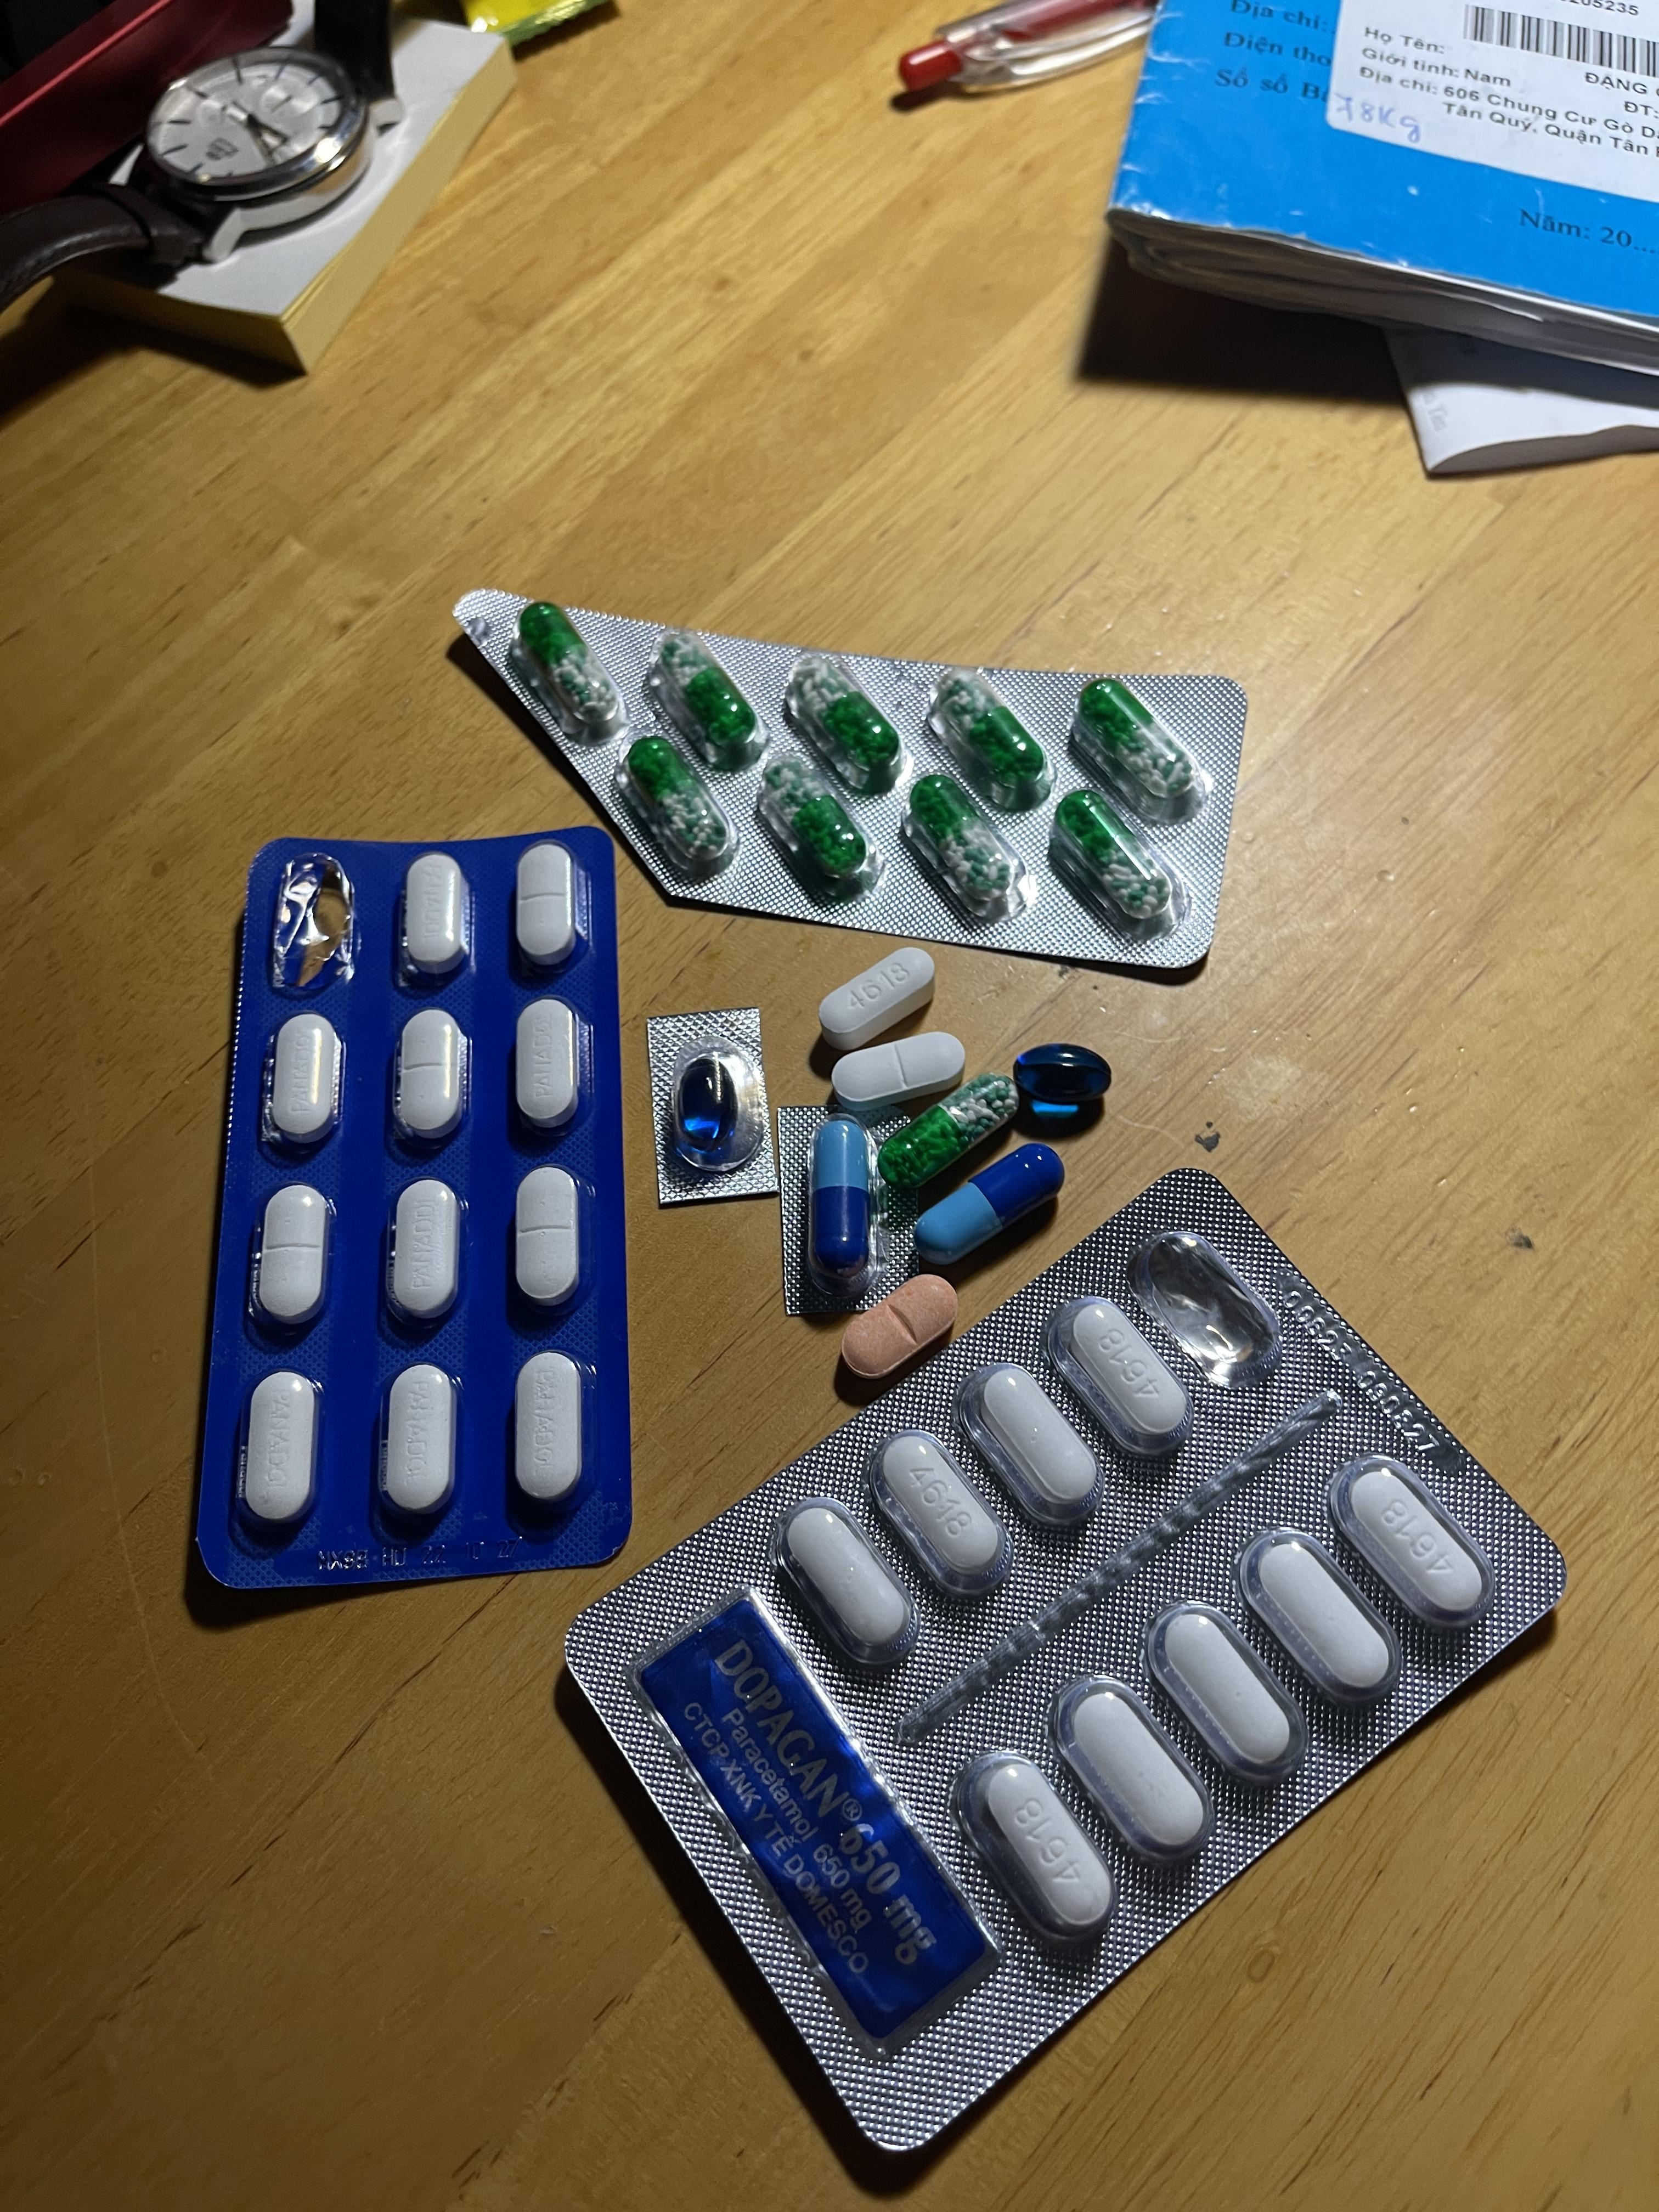Lincomyxin_500mg: (1012, 1043, 1115, 1111), (676, 1054, 741, 1151)
Loratadine_10mg: (842, 1275, 960, 1374)
Paracetamol_350mg: (242, 1372, 319, 1526), (831, 1033, 969, 1115), (383, 1364, 457, 1517), (256, 1183, 331, 1324), (514, 1353, 584, 1503), (389, 1179, 460, 1324), (514, 1167, 582, 1308), (396, 1010, 465, 1143), (272, 1012, 340, 1143), (516, 998, 582, 1130), (404, 853, 469, 970), (516, 845, 577, 958)
Paracetamol_500mg: (1049, 1672, 1213, 1871), (1141, 1599, 1302, 1789), (1234, 1527, 1396, 1714), (960, 1360, 1108, 1527), (1044, 1296, 1188, 1456), (779, 1500, 913, 1672), (871, 1430, 1011, 1595), (979, 1763, 1103, 1930), (1352, 1468, 1476, 1611), (817, 948, 943, 1043)
Paracetamol_650mg: (875, 1073, 1019, 1202), (934, 672, 1051, 805), (786, 655, 899, 782), (519, 603, 622, 733), (1060, 792, 1169, 914), (657, 632, 758, 759), (626, 737, 725, 866), (1079, 681, 1188, 794), (910, 780, 1012, 900), (777, 761, 868, 878)
pill: (913, 1136, 1065, 1261), (814, 1116, 873, 1275)
